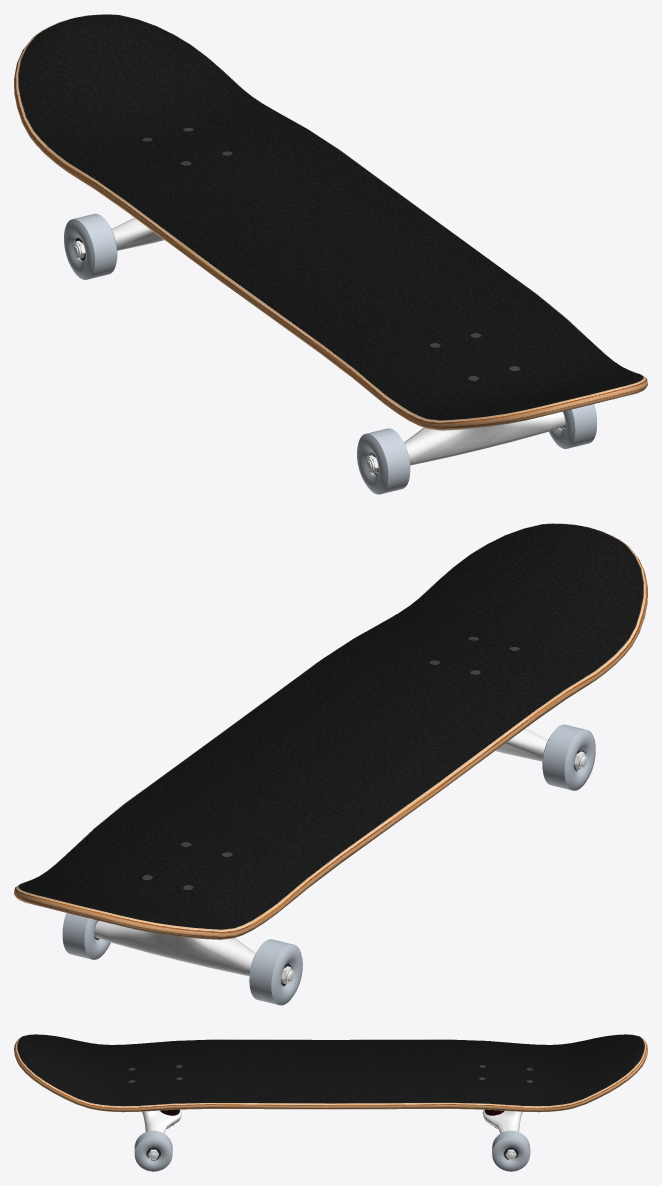
Rendered from skate_parts.gltf.
3 views of the same model, one above another, from view 1: azimuth 30°, elevation 25°; view 2: azimuth 150°, elevation 25°; view 3: azimuth 270°, elevation 25° (orthographic). The views are drawn at different scales.
Visible parts, largest first — view 1: board_low, trucks_low.001, wheels_low.003, wheels_low.001, wheels_low, trucks_low; view 2: board_low, trucks_low, wheels_low.003, wheels_low.001, wheels_low.002, trucks_low.001; view 3: board_low, wheels_low, wheels_low.002, trucks_low.001, trucks_low.
Boxes of the visible parts, x1,y1,x2,y2 form: board_low: (14,14,647,430); trucks_low.001: (404,411,565,465); wheels_low.003: (357,428,410,494); wheels_low.001: (64,213,117,279); wheels_low: (549,404,596,448); trucks_low: (111,217,164,250); board_low: (14,523,647,939); trucks_low: (94,921,255,976); wheels_low.003: (542,724,595,790); wheels_low.001: (249,939,302,1005); wheels_low.002: (62,913,110,959); trucks_low.001: (495,728,547,761); board_low: (14,1034,647,1112); wheels_low: (134,1130,172,1171); wheels_low.002: (492,1130,530,1171); trucks_low.001: (142,1109,181,1133); trucks_low: (482,1109,522,1133).
Bounding box in the file's own units: 1.13 × 0.7574 × 4.63.
1 material, 1 textured.
